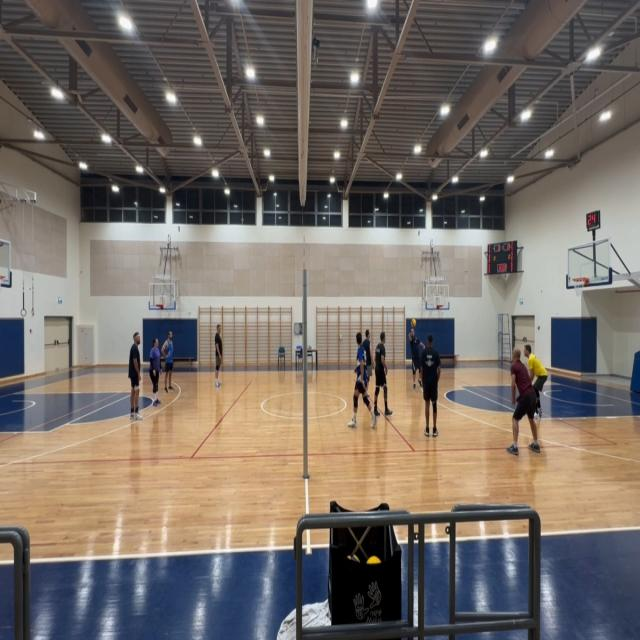volleyball: (411, 318, 416, 327)
